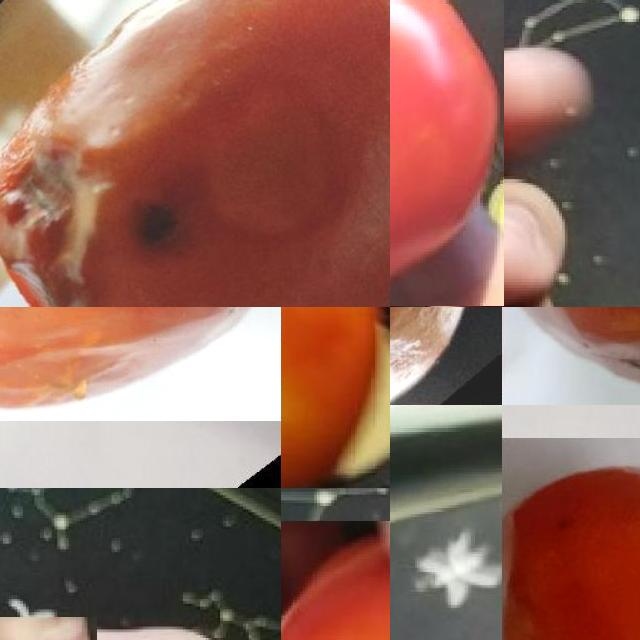0: (390, 0, 504, 306)
Fresh Tomato: (281, 307, 381, 488)
Rotten Tomato: (0, 0, 390, 307), (0, 307, 281, 421), (502, 437, 640, 640)
